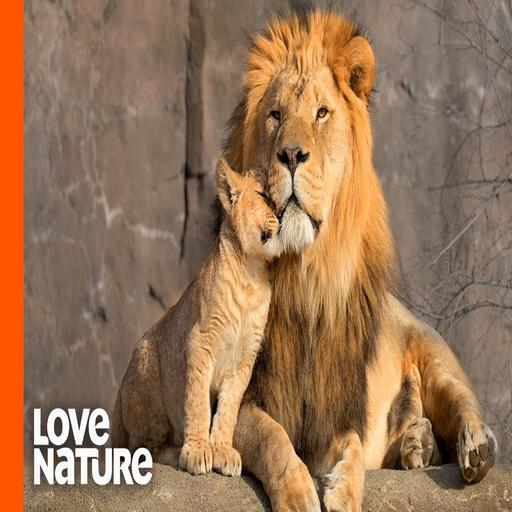Lion: (225, 5, 510, 512), (101, 158, 289, 488)
